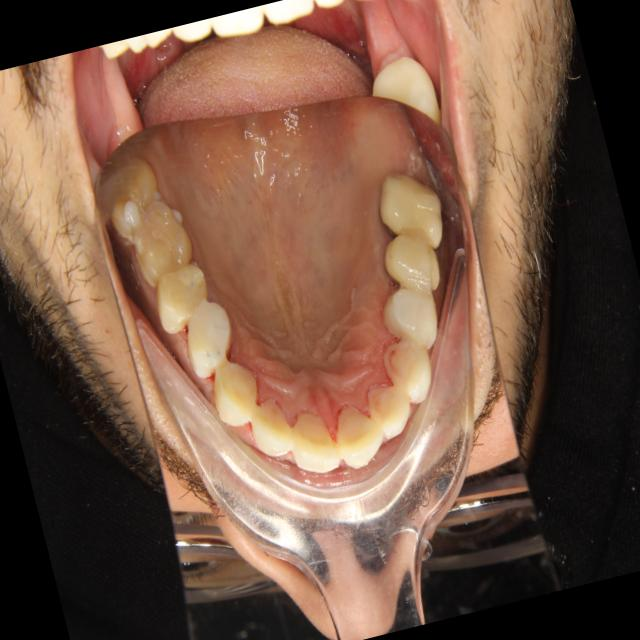tooth: (110, 184, 207, 301), (358, 148, 458, 261), (361, 262, 454, 365), (365, 202, 453, 306), (167, 281, 251, 387), (136, 248, 226, 346), (91, 149, 172, 243), (193, 337, 270, 434), (317, 382, 394, 478), (364, 315, 441, 411), (274, 391, 347, 487), (238, 371, 302, 472), (349, 361, 422, 447)
